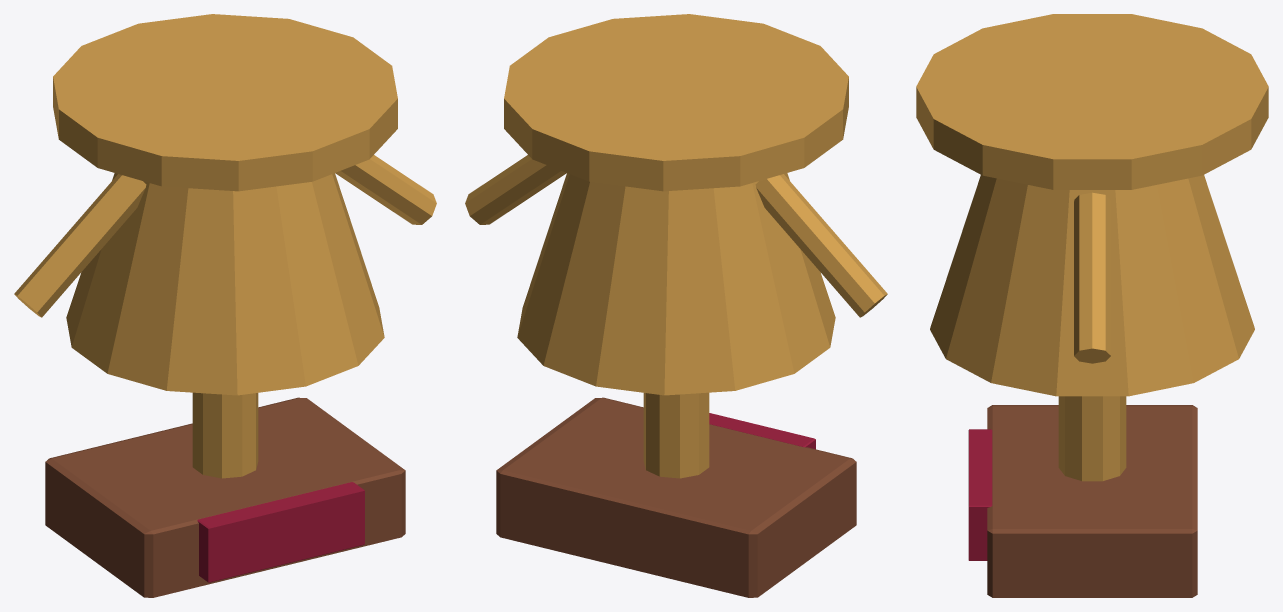
File: prop_trophy.glb
3 views of the same model, side by side, from view 1: azimuth 30°, elevation 25°; view 2: azimuth 150°, elevation 25°; view 3: azimuth 270°, elevation 25° (orthographic).
Visible parts, largest first — view 1: trophy_cup, trophy_lip, trophy_base, trophy_plaque, trophy_handle_left, trophy_stem, trophy_handle_right; view 2: trophy_cup, trophy_lip, trophy_base, trophy_handle_left, trophy_stem, trophy_handle_right, trophy_plaque; view 3: trophy_cup, trophy_lip, trophy_base, trophy_handle_right, trophy_stem, trophy_plaque.
Part boxes in pixels (x1=…): trophy_cup: x1=66, y1=173, x2=384, y2=395; trophy_lip: x1=53, y1=14, x2=397, y2=191; trophy_base: x1=45, y1=397, x2=405, y2=597; trophy_plaque: x1=197, y1=482, x2=364, y2=582; trophy_handle_left: x1=14, y1=174, x2=146, y2=317; trophy_stem: x1=192, y1=392, x2=258, y2=478; trophy_handle_right: x1=335, y1=155, x2=436, y2=224; trophy_cup: x1=517, y1=173, x2=835, y2=395; trophy_lip: x1=504, y1=14, x2=848, y2=191; trophy_base: x1=496, y1=397, x2=856, y2=597; trophy_handle_left: x1=755, y1=174, x2=887, y2=317; trophy_stem: x1=643, y1=392, x2=709, y2=478; trophy_handle_right: x1=465, y1=155, x2=566, y2=224; trophy_plaque: x1=709, y1=413, x2=815, y2=449; trophy_cup: x1=930, y1=175, x2=1254, y2=396; trophy_lip: x1=916, y1=14, x2=1268, y2=189; trophy_base: x1=987, y1=405, x2=1197, y2=597; trophy_handle_right: x1=1074, y1=192, x2=1110, y2=363; trophy_stem: x1=1058, y1=396, x2=1126, y2=481; trophy_plaque: x1=968, y1=429, x2=992, y2=560.
Bounding box in the file's own units: 1.43 × 1.46 × 1.04.
